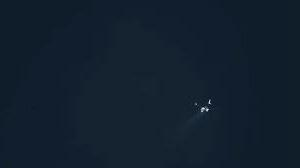Plane: (170, 88, 233, 127)
